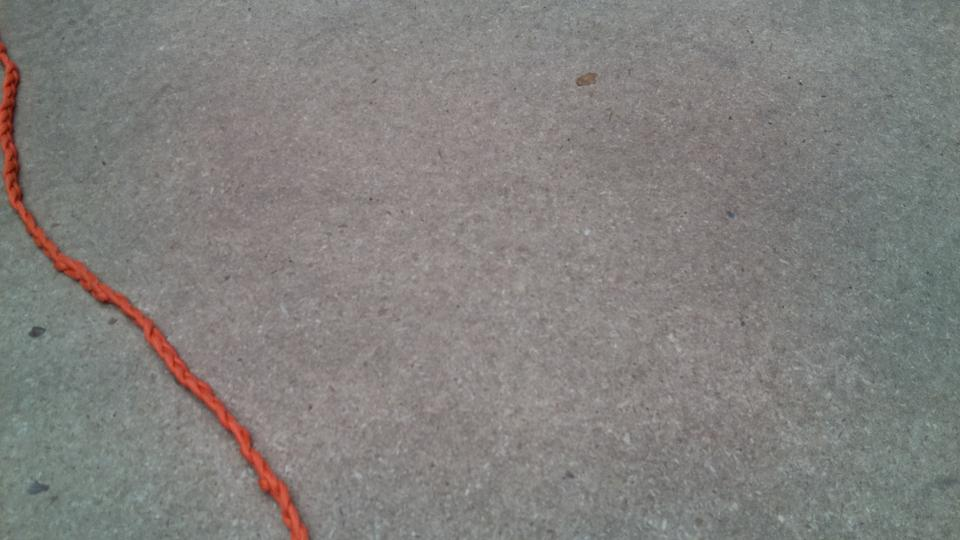rope: (1, 56, 296, 539)
